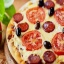olives: (40, 38, 54, 49), (13, 27, 24, 38), (34, 20, 44, 30)
pepperoni: (8, 12, 29, 31), (29, 52, 54, 62)
pizza: (8, 1, 62, 64)
